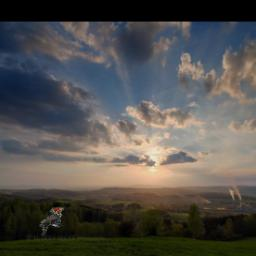Woodpecker: (40, 207, 65, 235)
